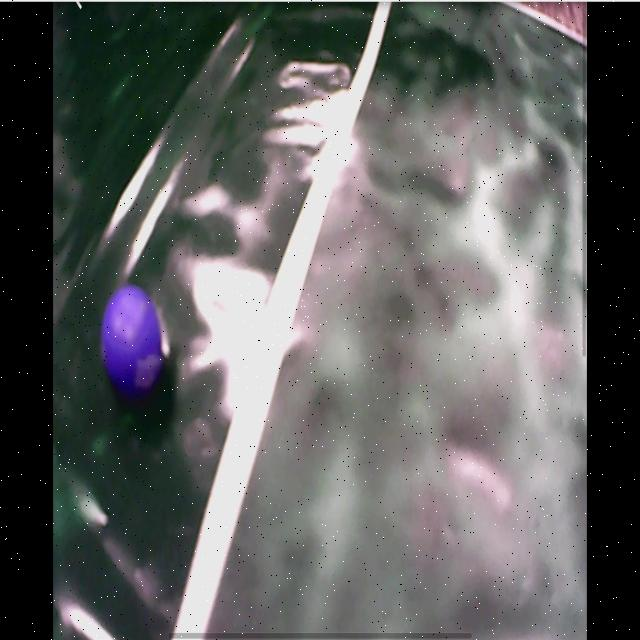ball: (101, 287, 162, 390)
